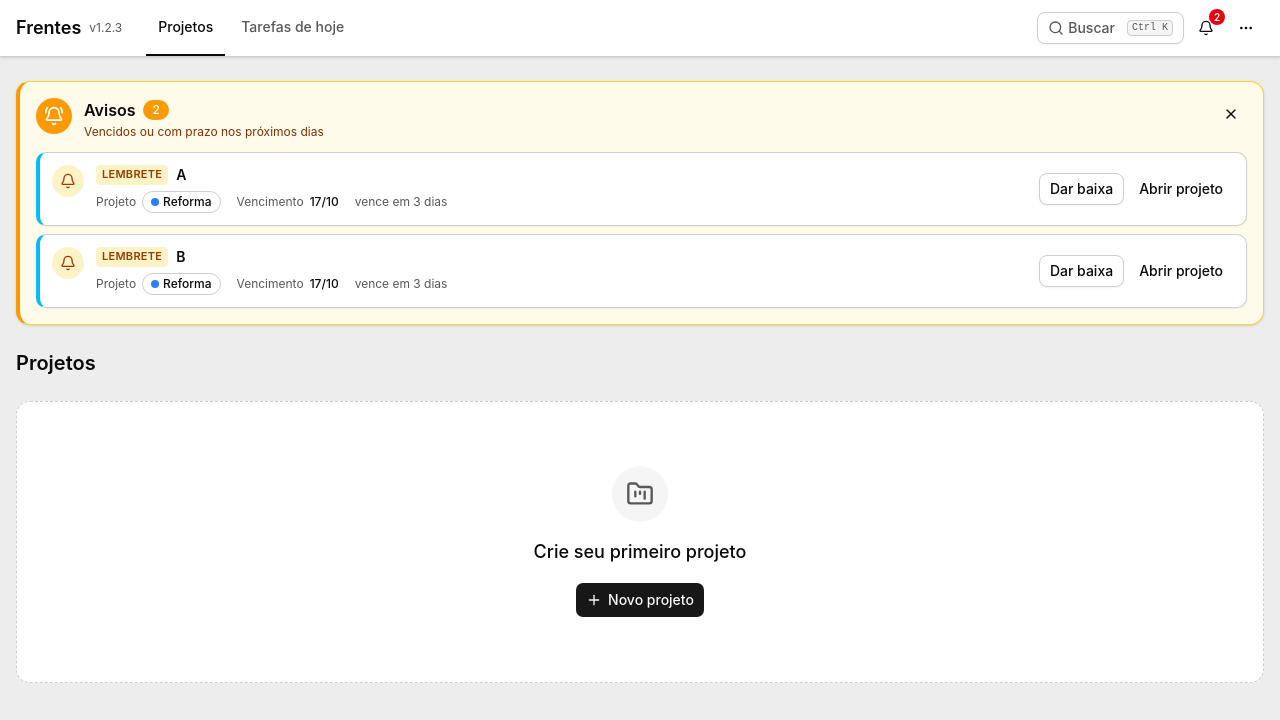
Scenario: PainelAvisos (01 §4.1, RN-52..55) › Fechar oculta o painel; o sino mostra o total e reabre (RN-52, RN-55)
Click the button named "Fechar avisos" at (1231, 114), box [1215, 98, 1247, 130]
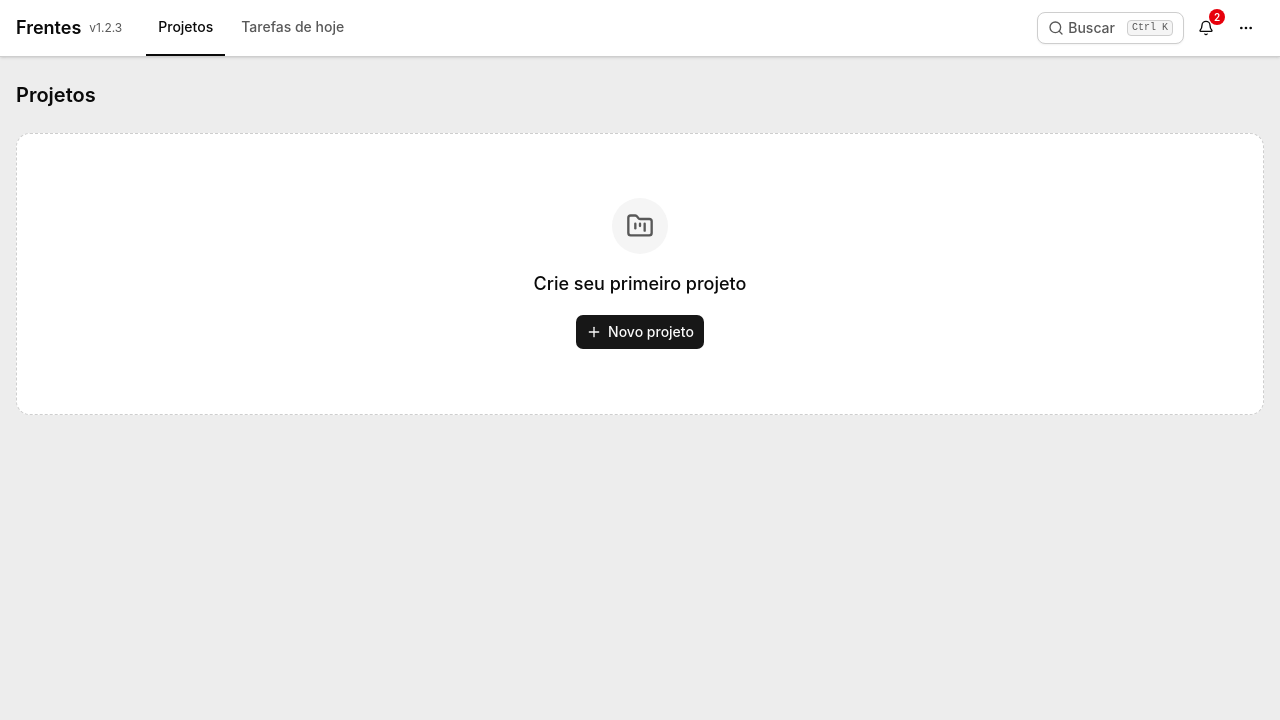
Expected: the heading "Avisos" is gone
Click the button named "Avisos: 2" at (1206, 28), box [1188, 10, 1224, 46]
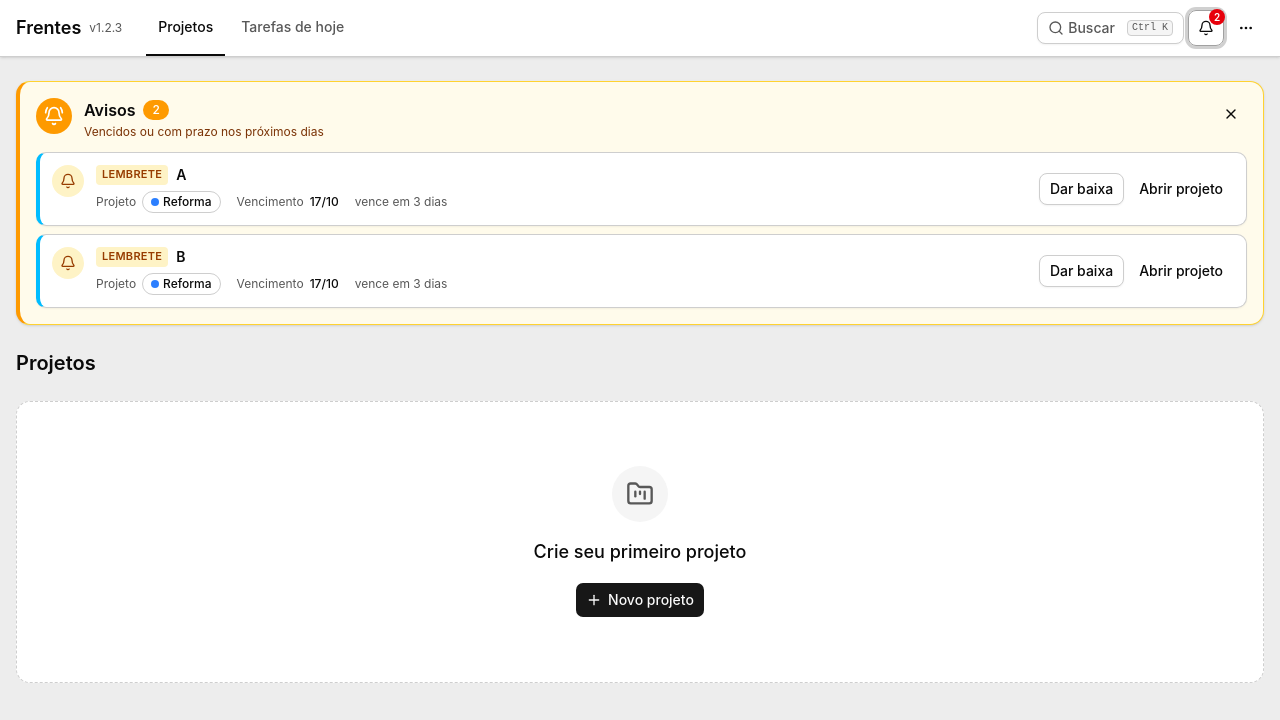
Expected: the element "Avisos" is shown, [16, 81, 1264, 325]
